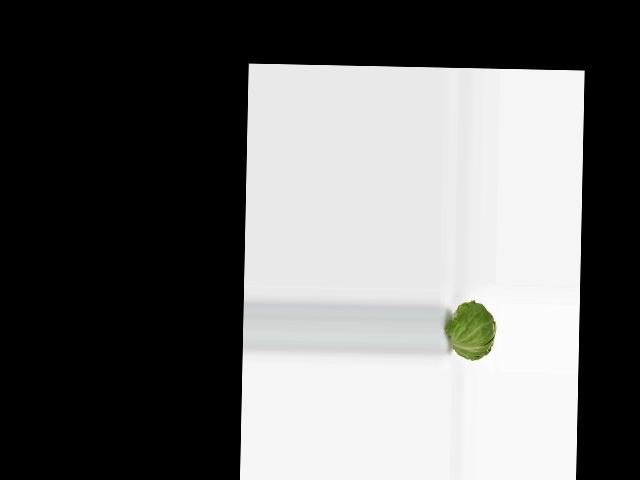lettuce: (451, 298, 497, 364)
